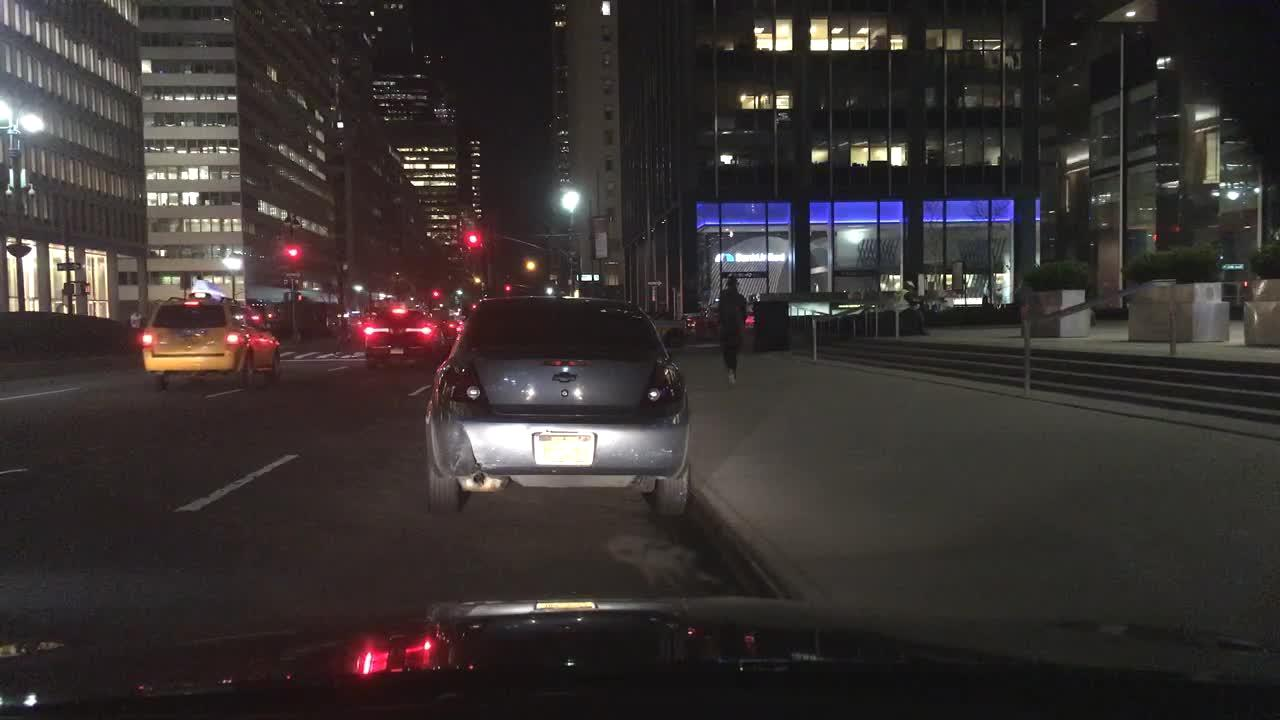chevrolet: (544, 367, 588, 389)
